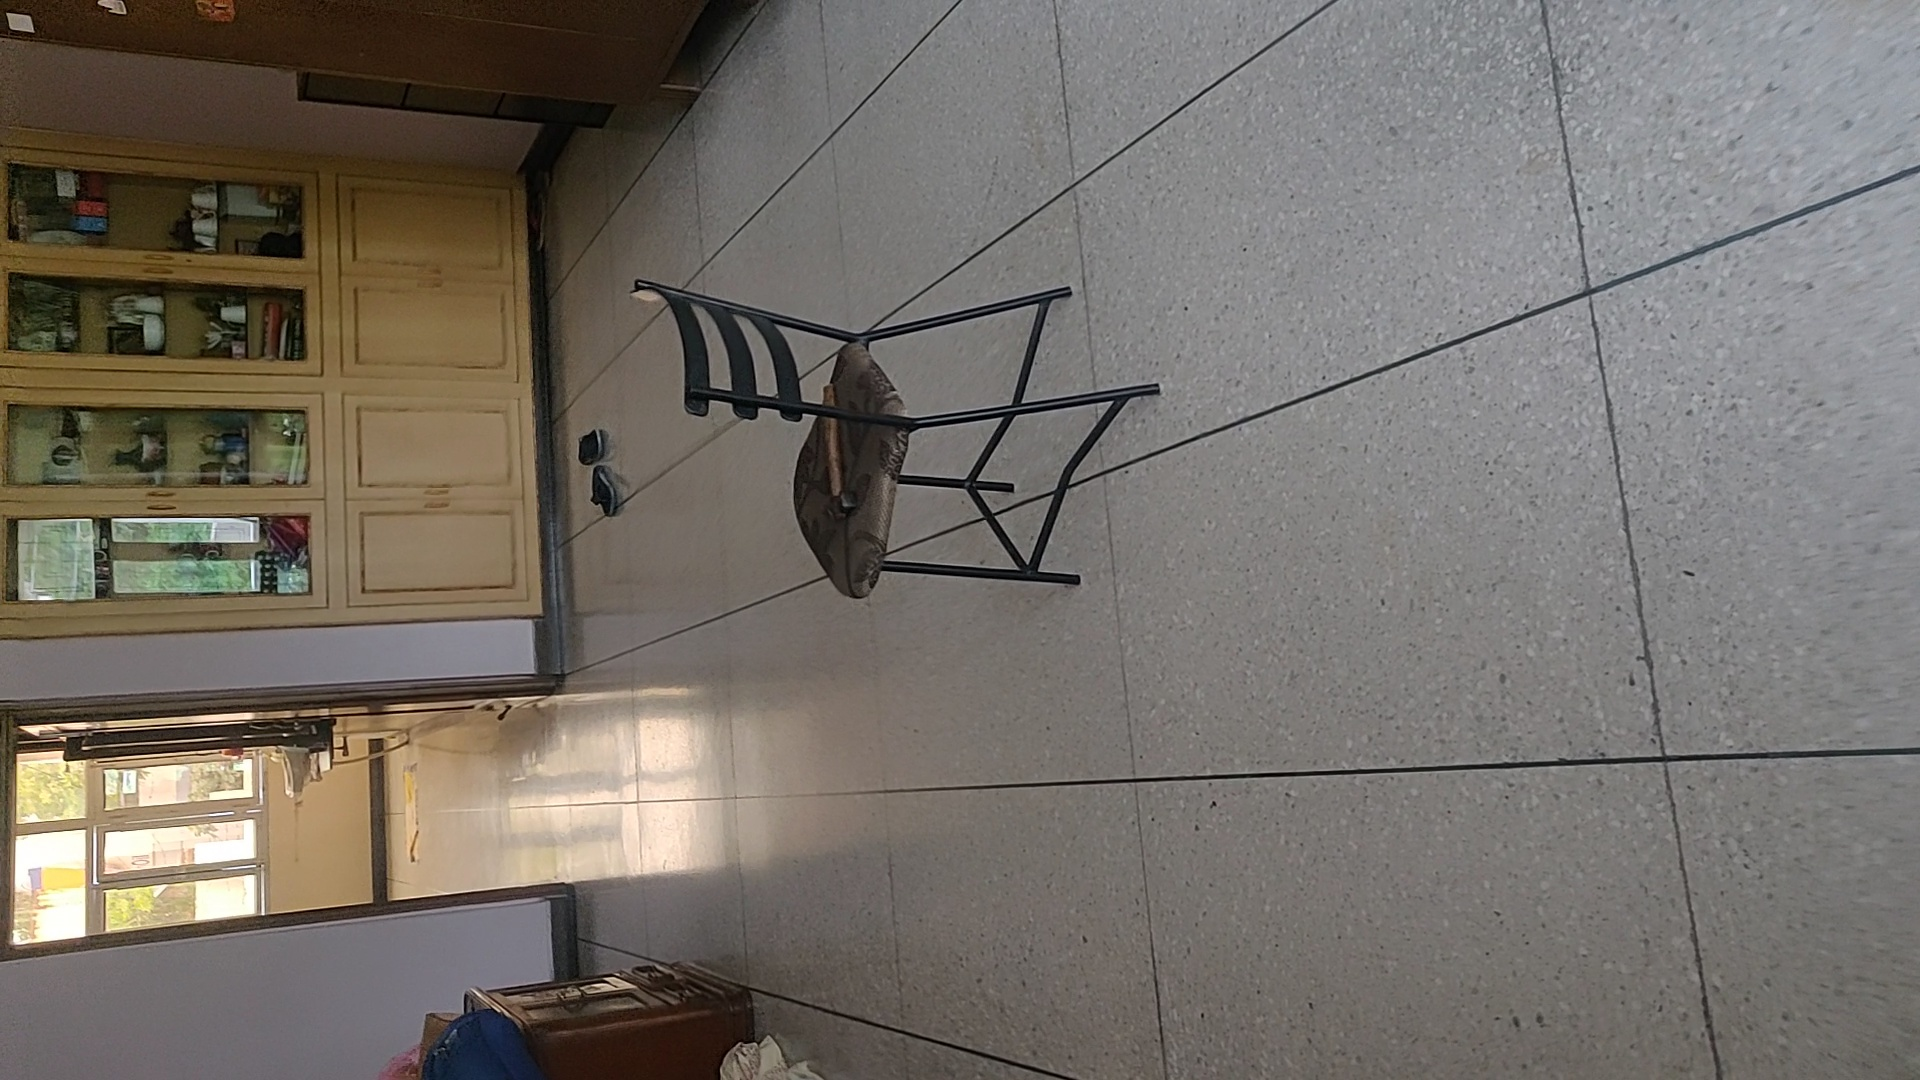hammer: (816, 384, 860, 525)
